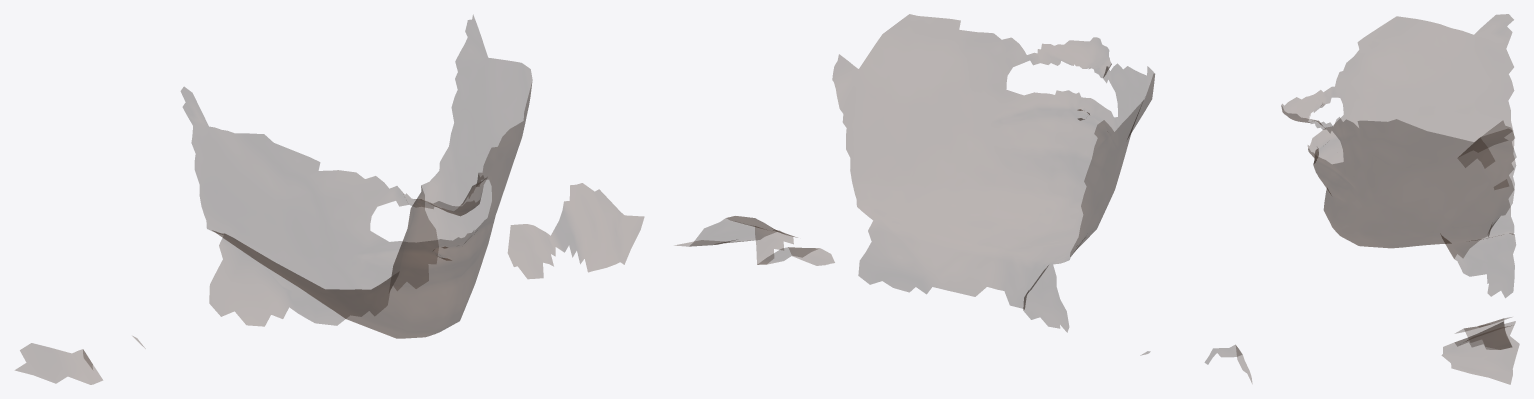
File: kopf.bart.stoppeln.glb
3 views of the same model, side by side, from view 1: azimuth 30°, elevation 25°; view 2: azimuth 150°, elevation 25°; view 3: azimuth 270°, elevation 25° (orthographic). The views are drawn at different scales.
Parts seen in each view (by area): view 1: bart; view 2: bart; view 3: bart.
Boxes of the visible parts, left/top/right/bottom form: bart: left=15, top=15, right=643, bottom=384; bart: left=675, top=14, right=1251, bottom=382; bart: left=1281, top=14, right=1519, bottom=384.
Bounding box in the file's own units: 0.3112 × 0.1206 × 0.1289.
